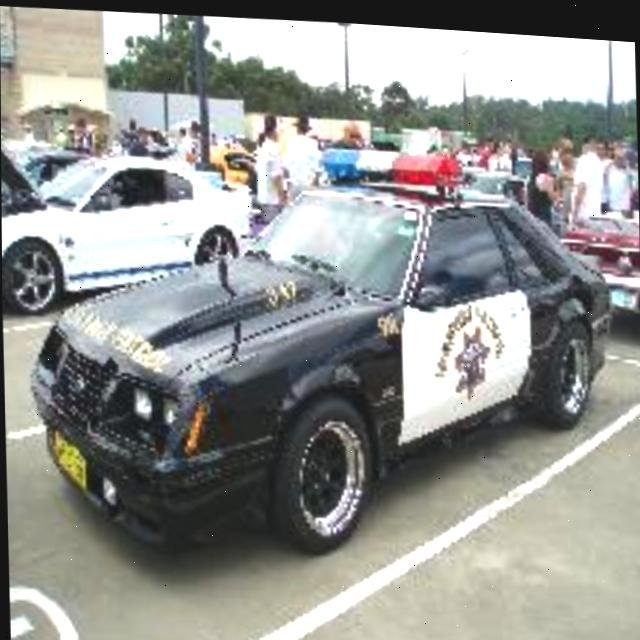emergency: (53, 107, 591, 568)
